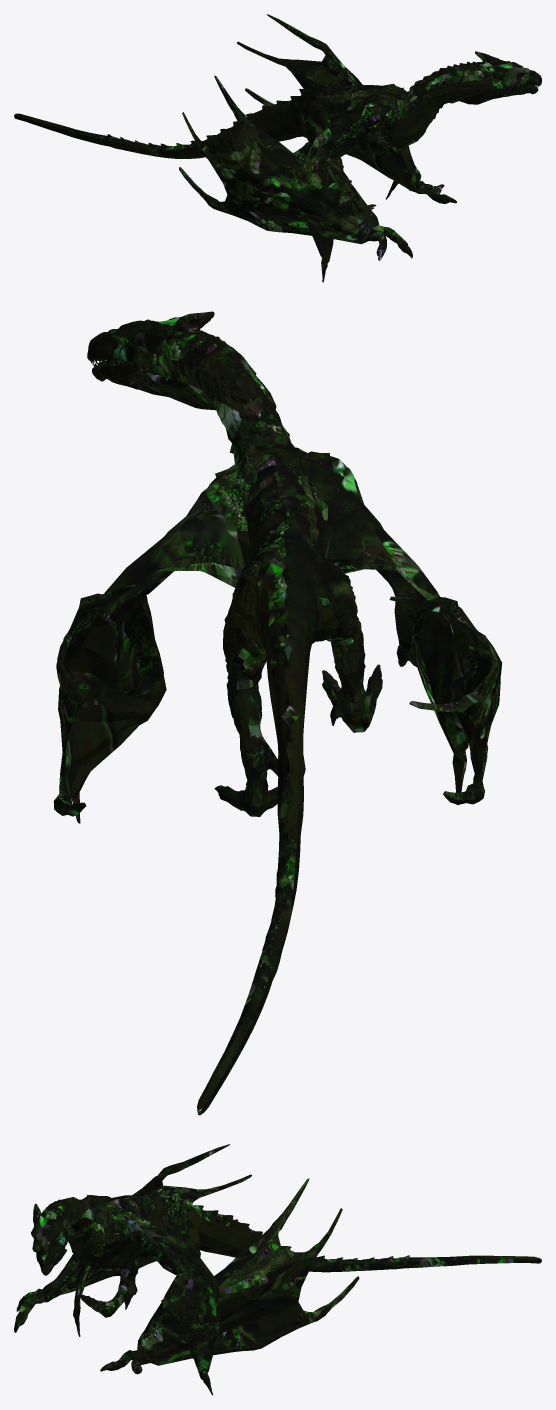
The model's file is frame_0015_uv.obj.
The picture shows the model from 3 angles, top to bottom: view 1: azimuth 30°, elevation 25°; view 2: azimuth 150°, elevation 25°; view 3: azimuth 270°, elevation 25°; orthographic projection. The views are drawn at different scales.
Parts seen in each view (by area): view 1: pMesh1; view 2: pMesh1; view 3: pMesh1.
Part boxes in pixels (bbox=[...]): pMesh1: bbox=[14, 14, 541, 282]; pMesh1: bbox=[53, 311, 501, 1115]; pMesh1: bbox=[14, 1144, 541, 1395].
Size of the model in its own units: 1.25 by 0.8108 by 1.85.
